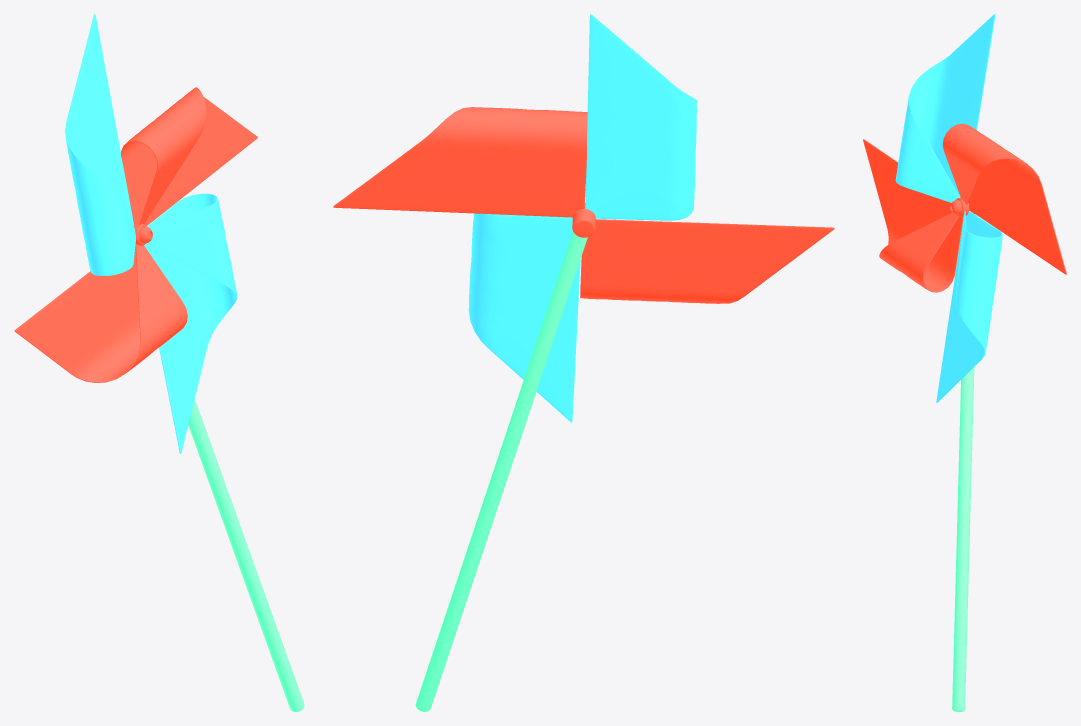
File: fengche.glb
3 views of the same model, side by side, from view 1: azimuth 30°, elevation 25°; view 2: azimuth 150°, elevation 25°; view 3: azimuth 270°, elevation 25° (orthographic). The views are drawn at different scales.
Visible parts, largest first — view 1: 2, 0; view 2: 2, 0; view 3: 2, 0.
Boxes of the visible parts, x1,y1,x2,y2 form: 2: (14,14,257,453); 0: (188,399,304,711); 2: (333,14,834,422); 0: (415,232,587,711); 2: (863,14,1066,402); 0: (952,214,978,711).
Bounding box in the file's own units: 1.02 × 1.96 × 0.5829.
